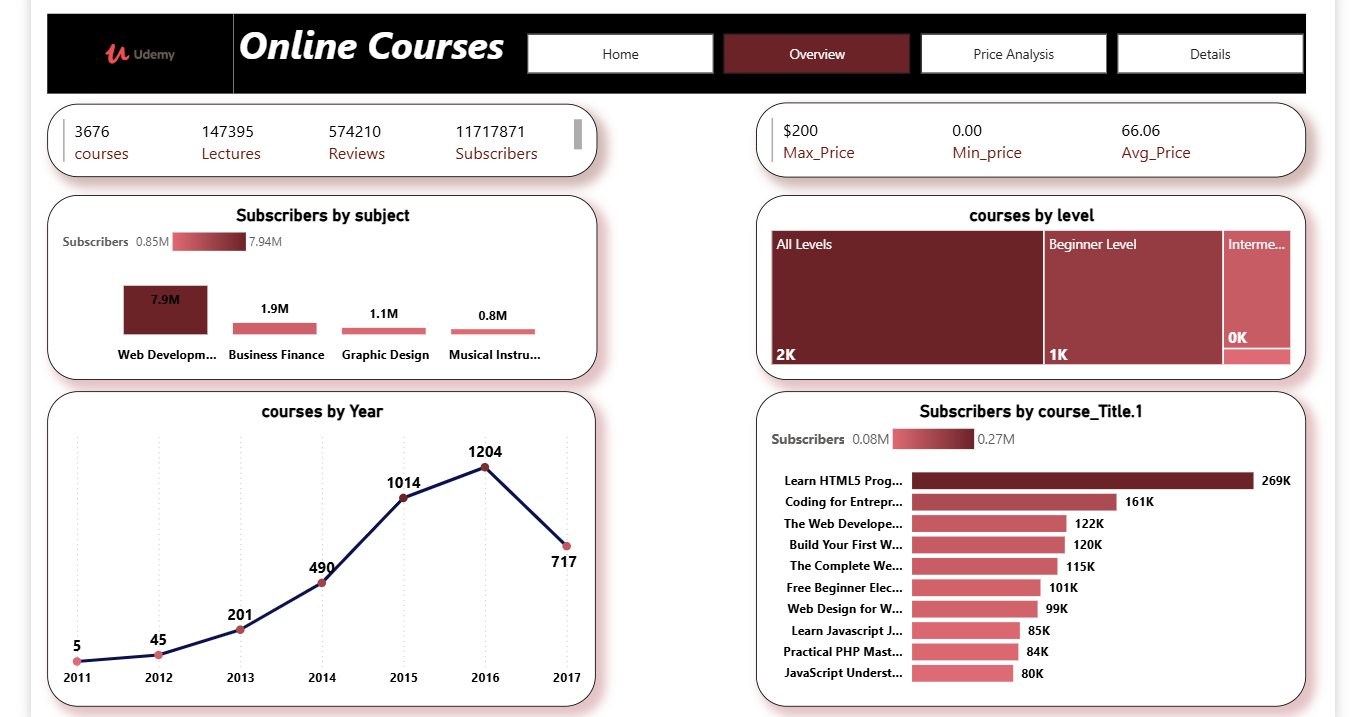

The dashboard page shown, as its layout file describes it:
{"tool":"powerbi","page":{"name":"Overview ","canvas":[1280,720],"ordinal":1},"visuals":[{"type":"textbox","box":[199,23.3,1052.5,78.2],"z":0},{"type":"image","box":[16.5,23.3,182.5,78.2],"z":1000},{"type":"multiRowCard","fields":{"Values":["udemy.courses","udemy.Lectures","udemy.Reviews","udemy.Subscribers"]},"box":[16,111.7,539.9,72.4],"z":2000},{"type":"multiRowCard","fields":{"Values":["udemy.Max_Price","udemy.Min_price","udemy.Avg_Price"]},"box":[711.7,110.4,539.9,73.6],"z":3000},{"type":"columnChart","fields":{"Y":["udemy.Subscribers"],"Category":["udemy.subject"]},"box":[16,201.2,539.9,181.6],"z":4000},{"type":"treemap","fields":{"Values":["udemy.courses"],"Group":["udemy.subject","udemy.level"]},"box":[711.7,201.2,539.9,181.6],"z":5000},{"type":"lineChart","fields":{"Y":["udemy.courses"],"Category":["udemy.published_timestamp.Variation.Date Hierarchy.Year"]},"box":[16,393.9,538.7,309.2],"z":6000},{"type":"barChart","fields":{"Y":["udemy.Subscribers"],"Category":["udemy.course_Title.1"]},"box":[711.7,393.9,539.9,309.2],"z":7000},{"type":"pageNavigator","box":[487.1,42.9,764.4,39.3],"z":7500}]}

Visuals, with their boxes in screenshot pixels (x1, y1, x2, y2):
textbox: l=231, t=10, r=1302, b=89
image: l=45, t=10, r=231, b=89
multiRowCard - udemy.courses x udemy.Lectures: l=45, t=99, r=594, b=173
multiRowCard - udemy.Max_Price x udemy.Min_price: l=752, t=98, r=1302, b=173
columnChart - udemy.Subscribers x udemy.subject: l=45, t=191, r=594, b=375
treemap - udemy.courses x udemy.subject: l=752, t=191, r=1302, b=375
lineChart - udemy.courses x udemy.published_timestamp.Variation.Date Hierarchy.Year: l=45, t=387, r=593, b=701
barChart - udemy.Subscribers x udemy.course_Title.1: l=752, t=387, r=1302, b=701
pageNavigator: l=524, t=29, r=1302, b=69
